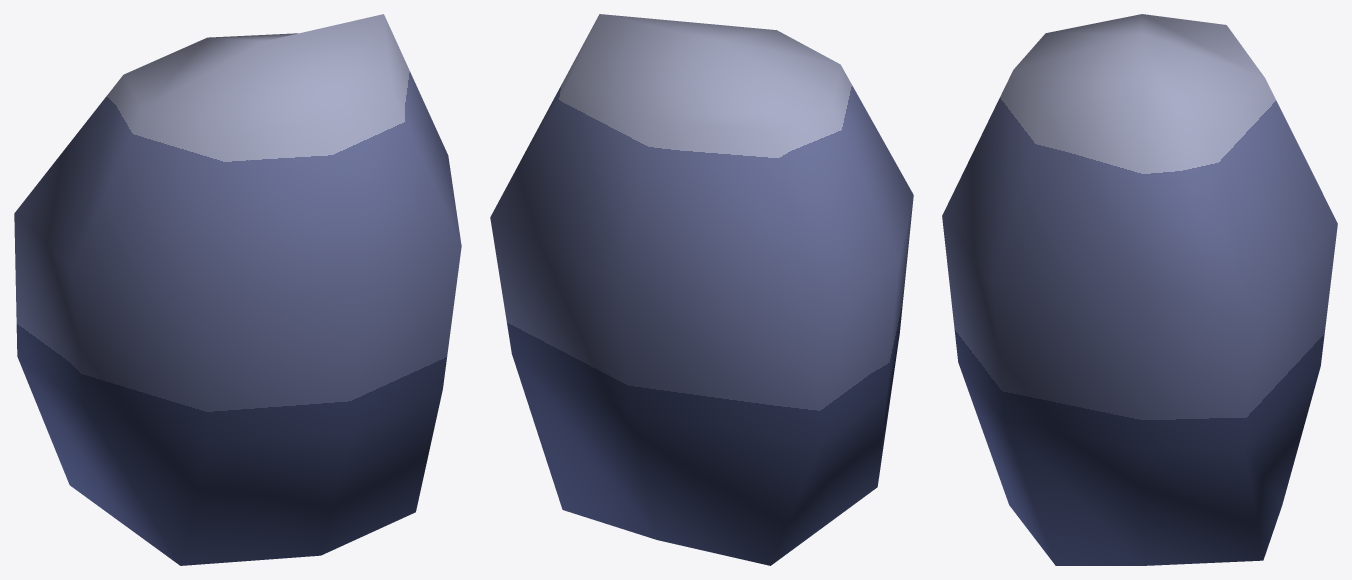
The model's file is map-rock-01.glb.
3 renders of one model, left to right at view 1: azimuth 30°, elevation 25°; view 2: azimuth 150°, elevation 25°; view 3: azimuth 270°, elevation 25°, orthographic. The views are drawn at different scales.
Parts seen in each view (by area): view 1: Rock01; view 2: Rock01; view 3: Rock01.
Boxes of the visible parts, left/top/right/bottom form: Rock01: left=14, top=14, right=461, bottom=565; Rock01: left=490, top=14, right=913, bottom=565; Rock01: left=942, top=14, right=1337, bottom=565.
Bounding box in the file's own units: 4.27 × 5.05 × 3.8.
1 material, 1 textured.
